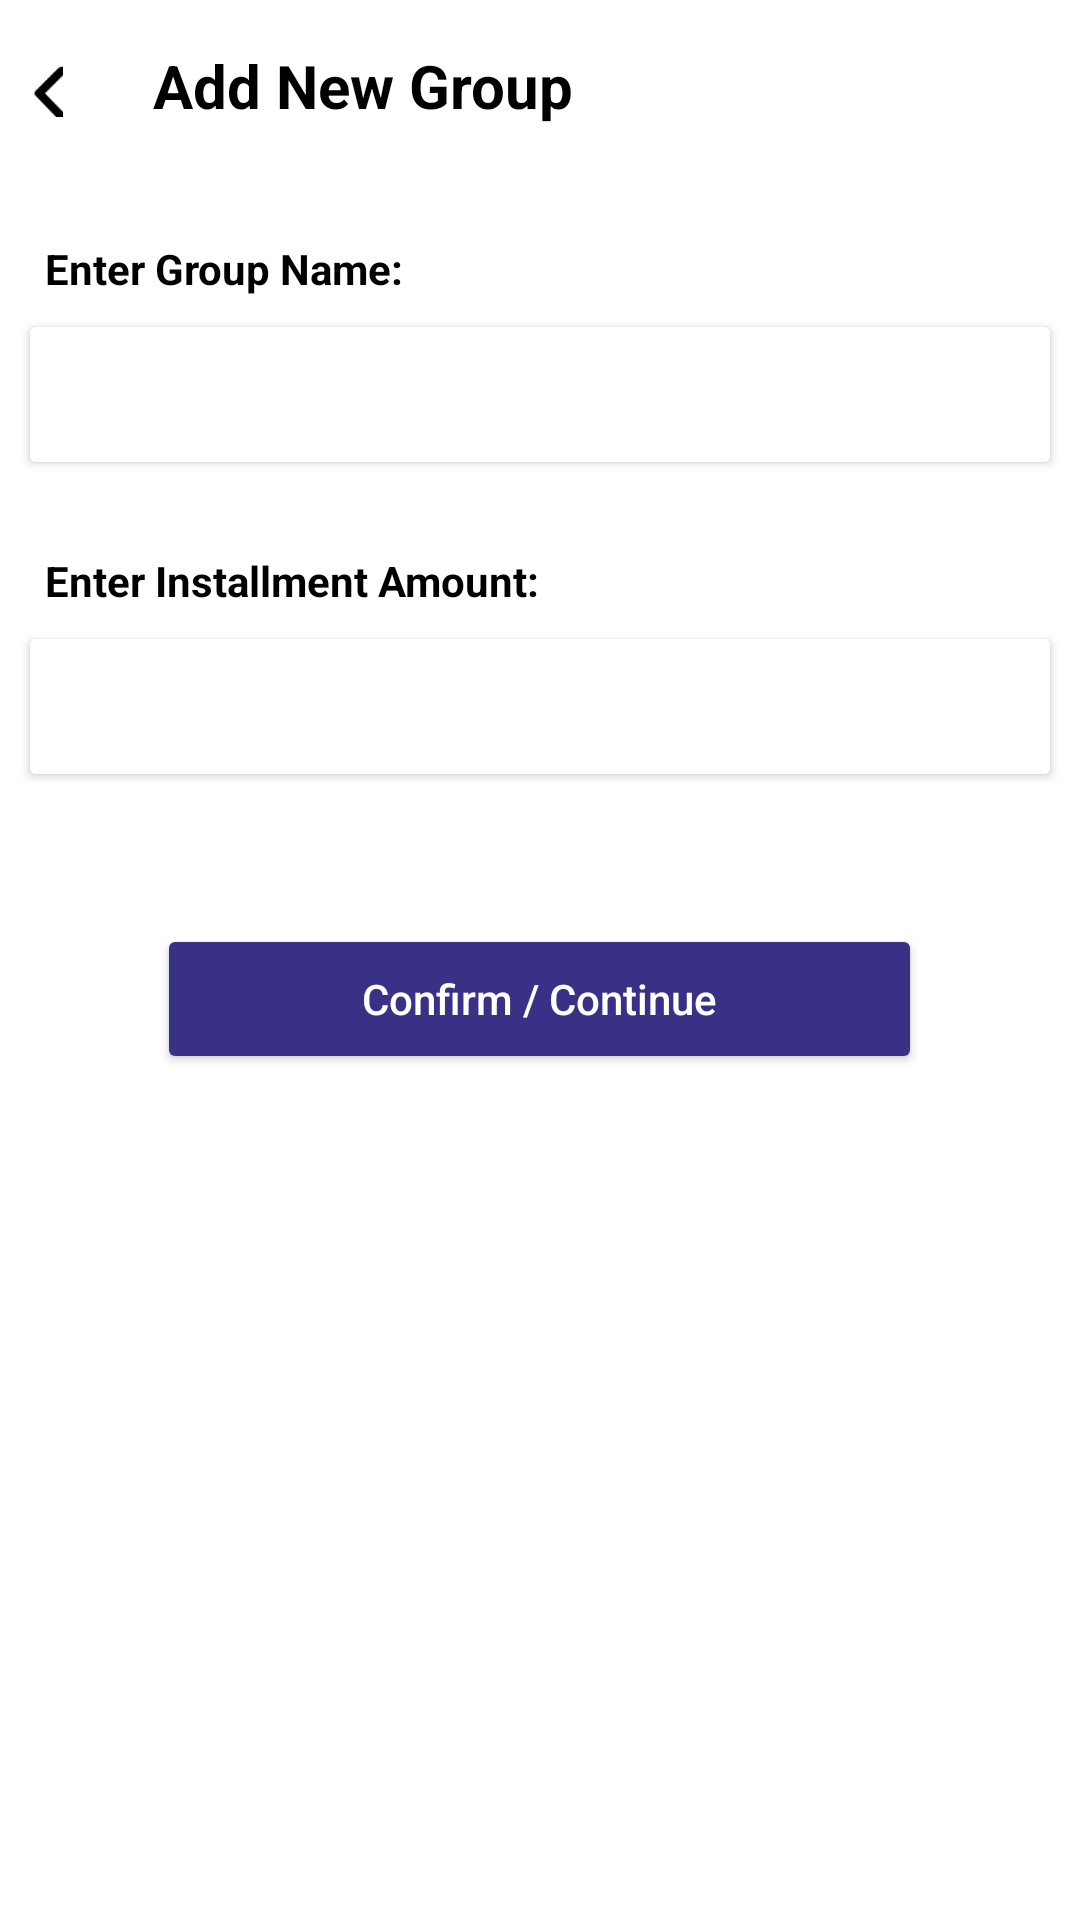

Icon bounding boxes for this 1080×1920 phone screenshot, format (x1, y1, x2, y2):
arrowback: (34, 66, 63, 117)
